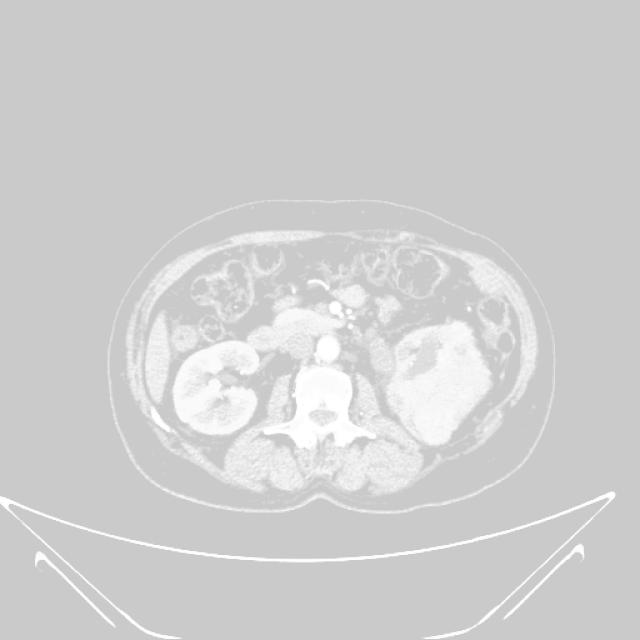TUMOR: (187, 248, 517, 451)
